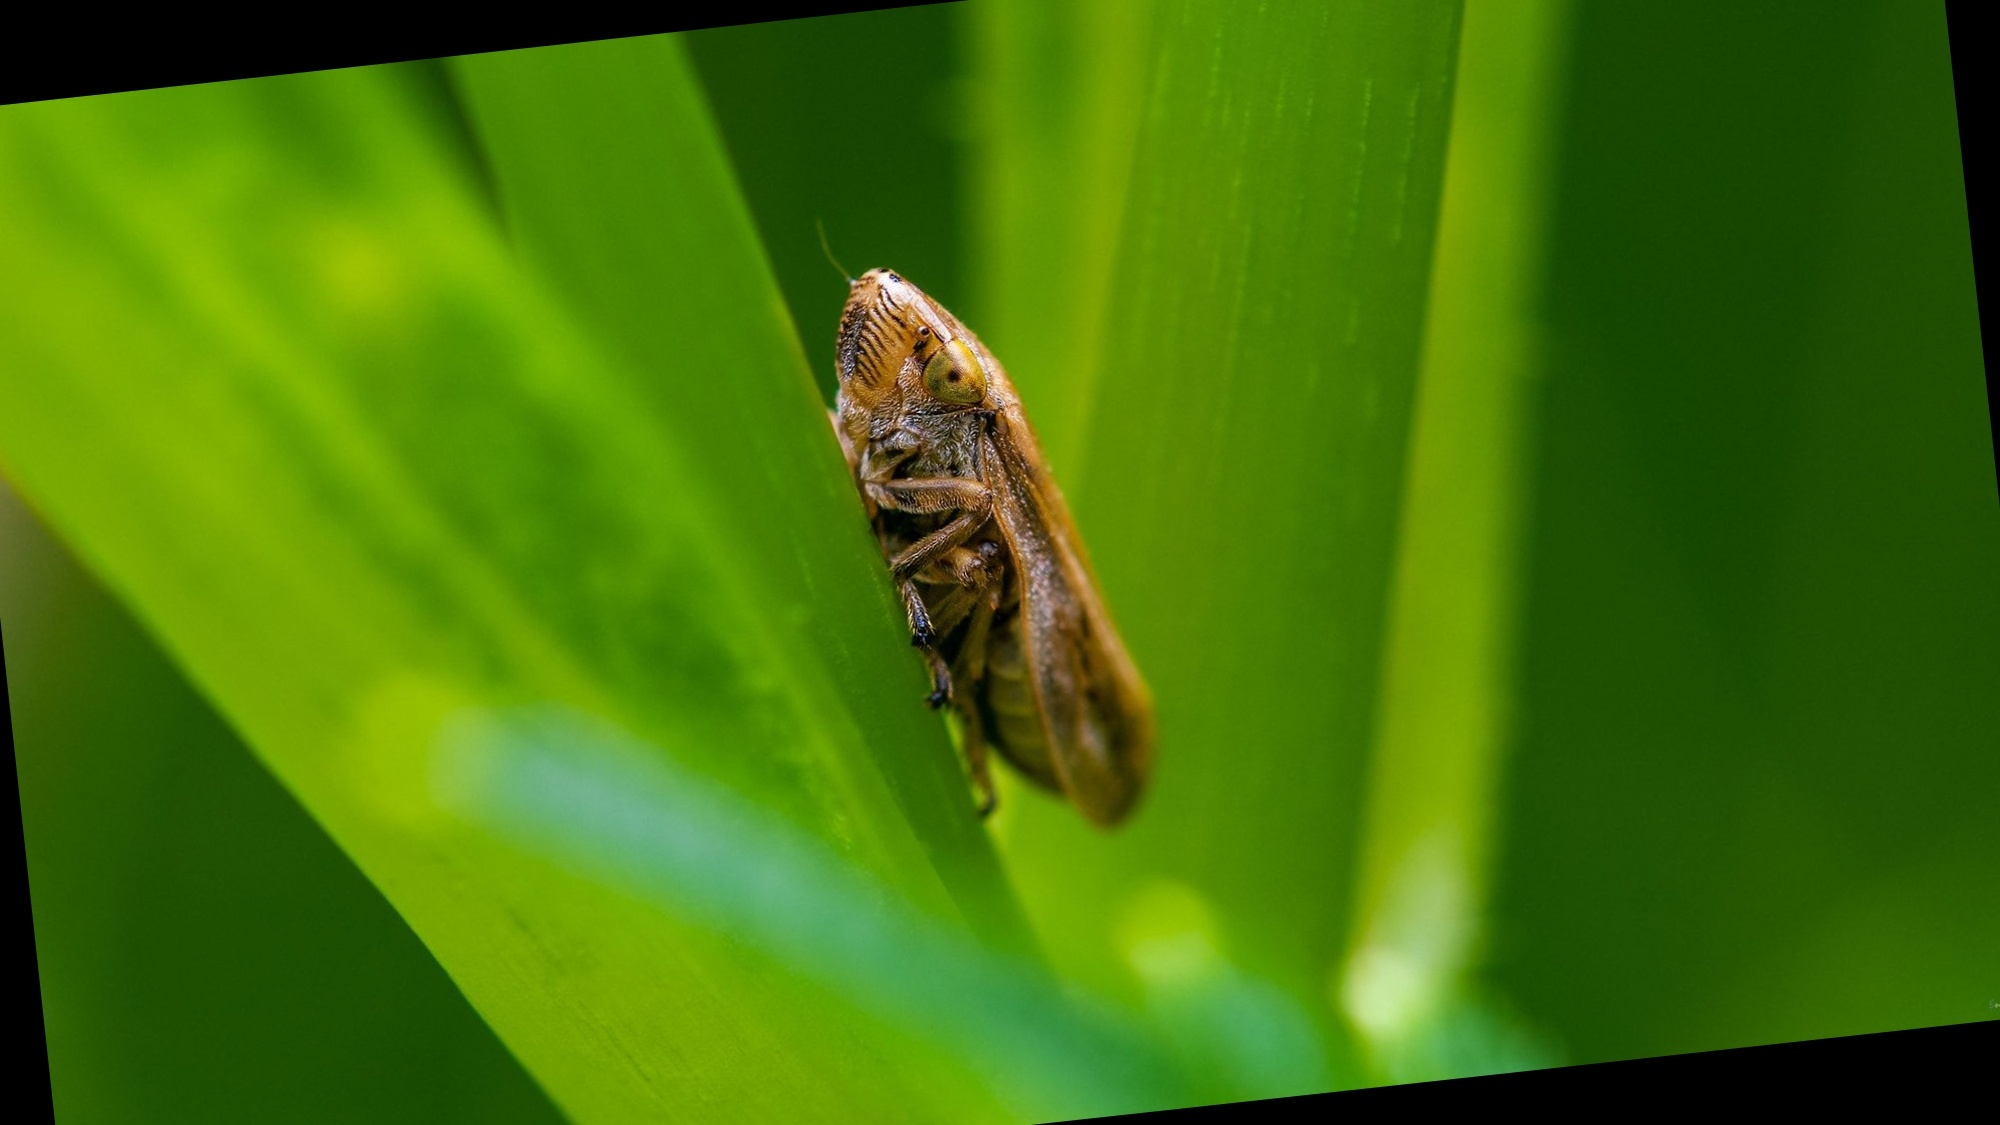Brown_hopper: (782, 199, 1196, 878)
